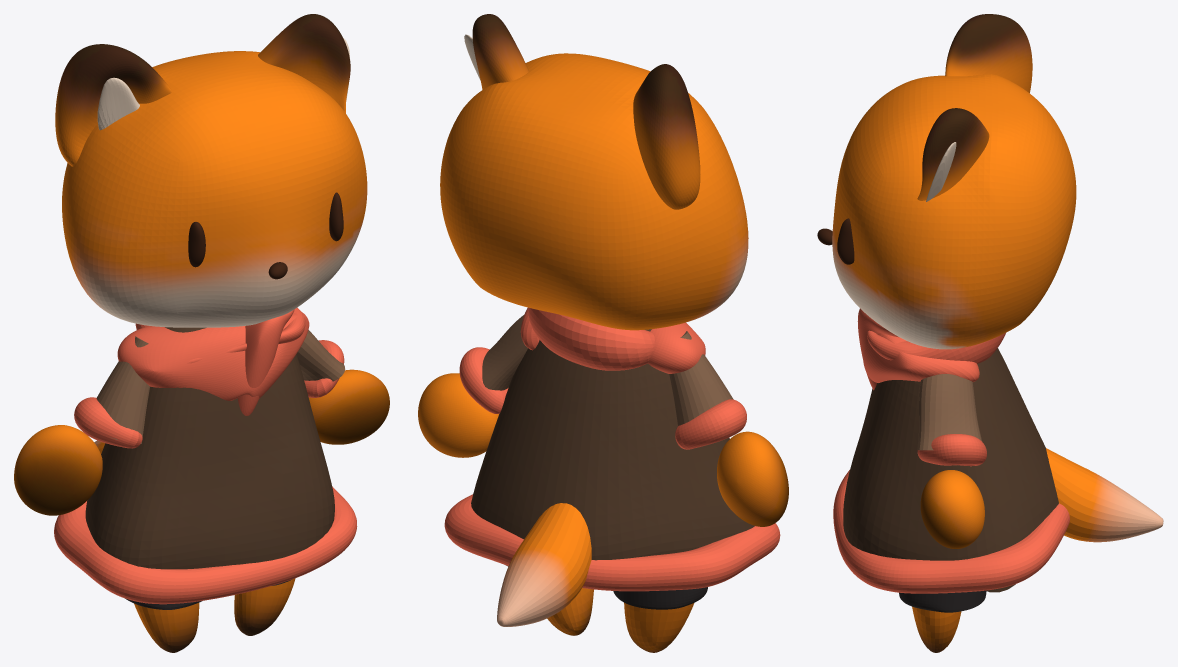
Rendered from fox.glb.
3 views of the same model, side by side, from view 1: azimuth 30°, elevation 25°; view 2: azimuth 150°, elevation 25°; view 3: azimuth 270°, elevation 25° (orthographic). The views are drawn at different scales.
Visible parts, largest first — view 1: Quad Sphere (×3), Lathe, Quad Sphere 1, Tube (×4), Tube 4, Tube 2, UV Sphere 2, UV Sphere 1; view 2: Quad Sphere (×2), Lathe, Tube (×5), Quad Sphere 1, Tube 4, Tube 2, Cylinder; view 3: Quad Sphere (×3), Lathe, Tube (×4), Quad Sphere 1, Tube 2, Tube 4, Cylinder 1, UV Sphere 1.
Part boxes in pixels (x1=…): Quad Sphere (×3): x1=62, y1=14, x2=389, y2=444; Lathe: x1=85, y1=327, x2=334, y2=569; Quad Sphere 1: x1=14, y1=44, x2=309, y2=515; Tube (×4): x1=54, y1=307, x2=357, y2=604; Tube 4: x1=134, y1=578, x2=295, y2=652; Tube 2: x1=304, y1=340, x2=344, y2=397; UV Sphere 2: x1=188, y1=222, x2=205, y2=267; UV Sphere 1: x1=329, y1=192, x2=343, y2=241; Quad Sphere (×2): x1=418, y1=14, x2=748, y2=457; Lathe: x1=471, y1=329, x2=754, y2=566; Tube (×5): x1=444, y1=307, x2=780, y2=626; Quad Sphere 1: x1=520, y1=64, x2=788, y2=526; Tube 4: x1=547, y1=588, x2=694, y2=652; Tube 2: x1=459, y1=347, x2=508, y2=413; Cylinder: x1=613, y1=587, x2=707, y2=609; Quad Sphere (×3): x1=832, y1=74, x2=1076, y2=548; Lathe: x1=843, y1=348, x2=1058, y2=592; Tube (×4): x1=833, y1=330, x2=1163, y2=593; Quad Sphere 1: x1=863, y1=14, x2=1032, y2=382; Tube 2: x1=917, y1=434, x2=986, y2=466; Tube 4: x1=912, y1=606, x2=961, y2=652; Cylinder 1: x1=899, y1=590, x2=986, y2=612; UV Sphere 1: x1=837, y1=218, x2=854, y2=264.
Size of the model in its own units: 1.14 by 1.8 by 0.9756.
